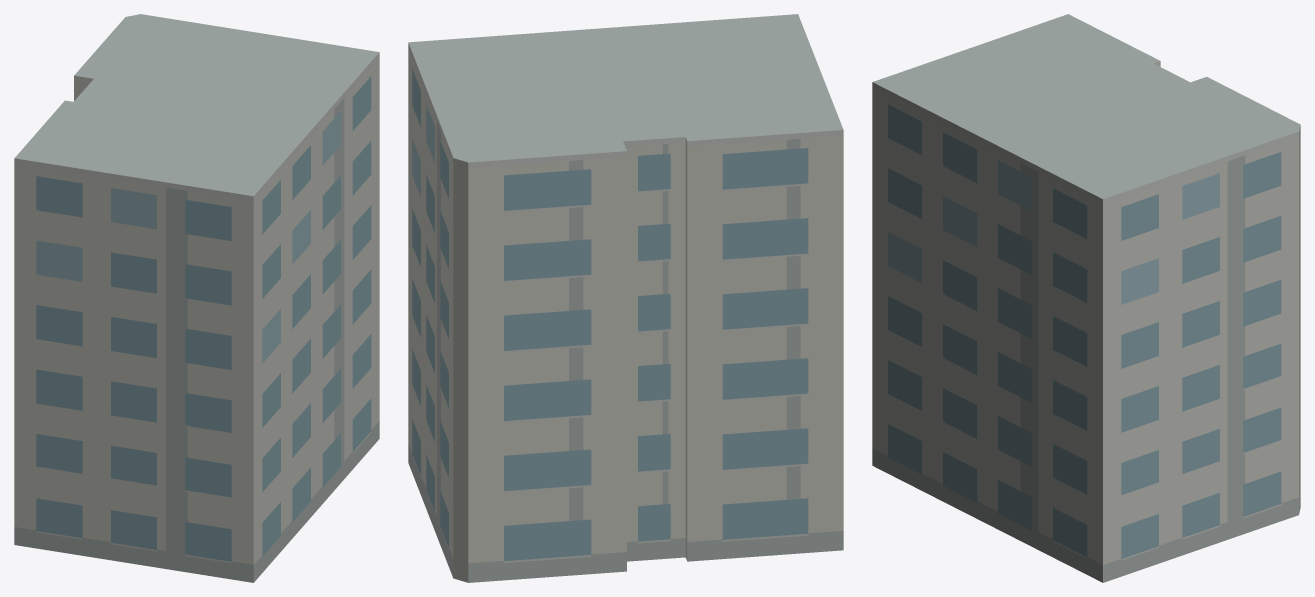
The model's file is survey-upis-32963906.glb.
3 views of the same model, side by side, from view 1: azimuth 30°, elevation 25°; view 2: azimuth 150°, elevation 25°; view 3: azimuth 270°, elevation 25° (orthographic). The views are drawn at different scales.
Parts seen in each view (by area): view 1: survey-upis-32963906.tmp; view 2: survey-upis-32963906.tmp; view 3: survey-upis-32963906.tmp.
Part boxes in pixels (x1,y1,x2,y2): survey-upis-32963906.tmp: (14, 14, 379, 582); survey-upis-32963906.tmp: (408, 14, 843, 582); survey-upis-32963906.tmp: (872, 14, 1300, 582).
Bounding box in the file's own units: 18.66 × 18 × 18.22.
